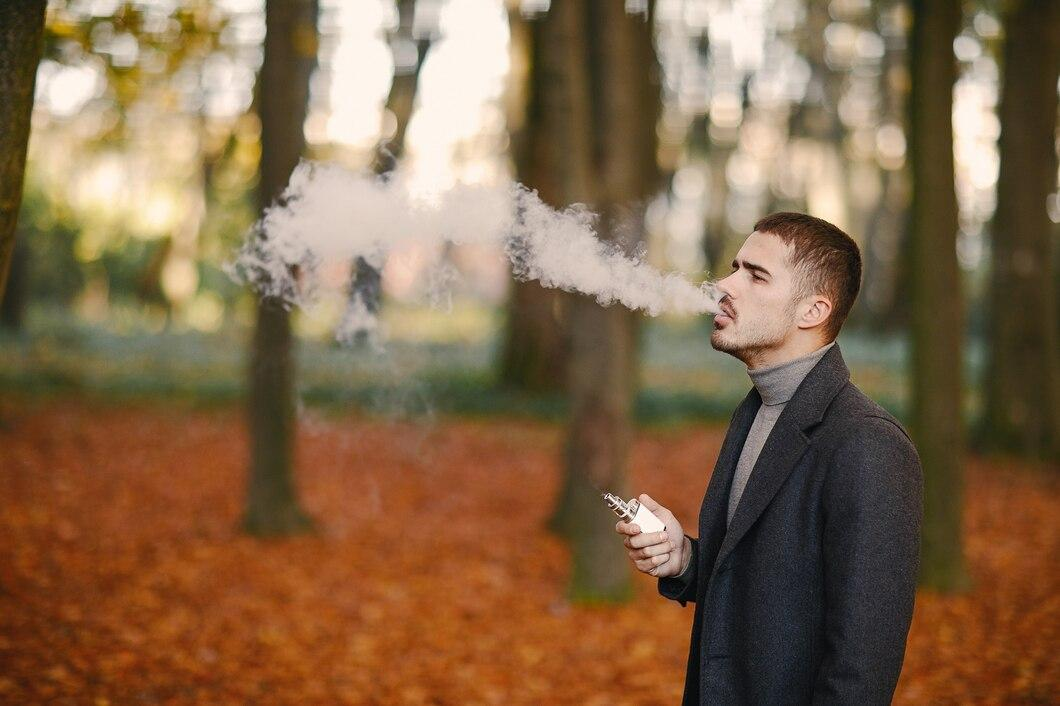Vape: (604, 493, 666, 533)
